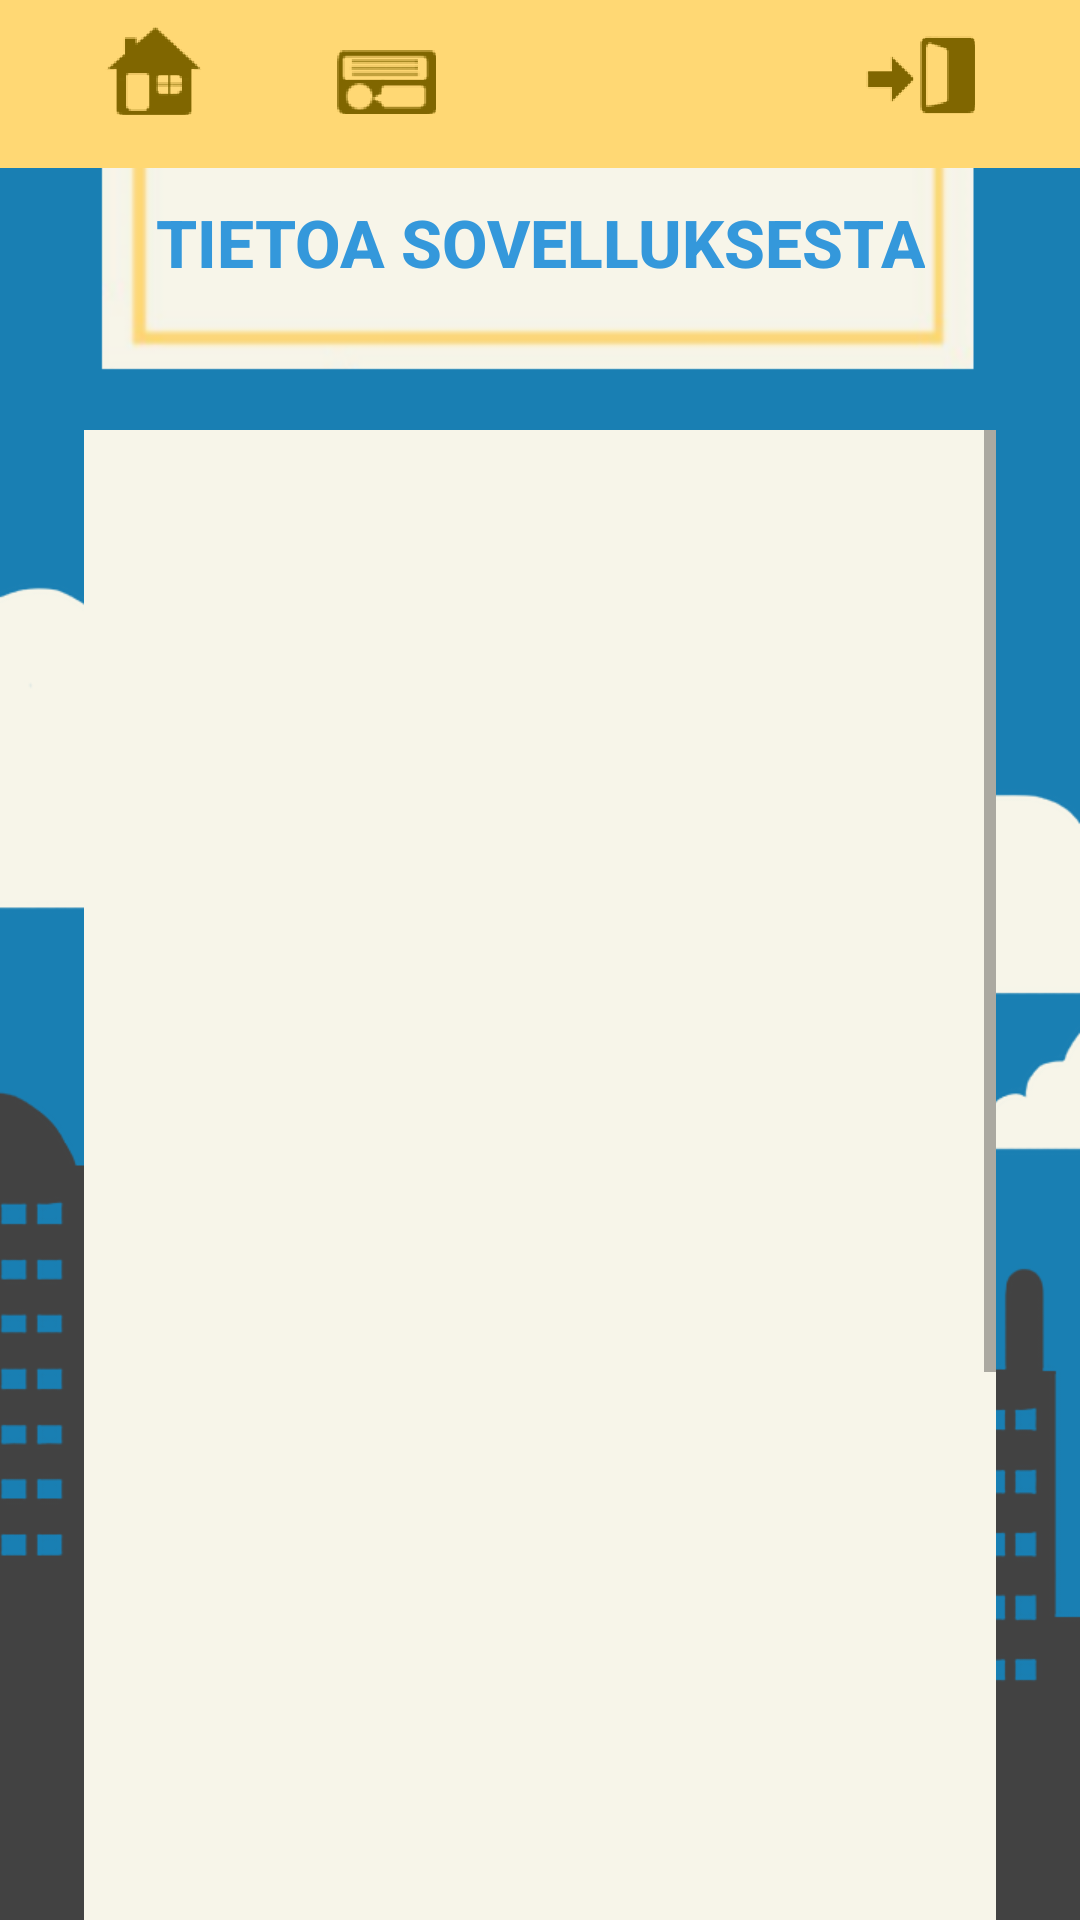

Point at icon controls on the screen. Image size 1080 x 1920, points as point (x, y).
feedbackicon: point (386, 82)
homeicon: point (154, 71)
